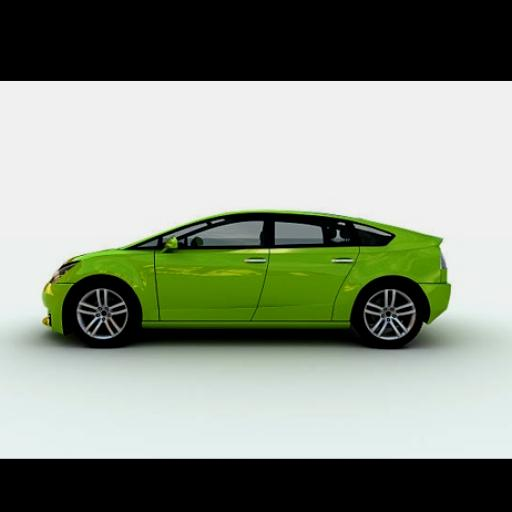hatchback: (43, 212, 449, 346)
